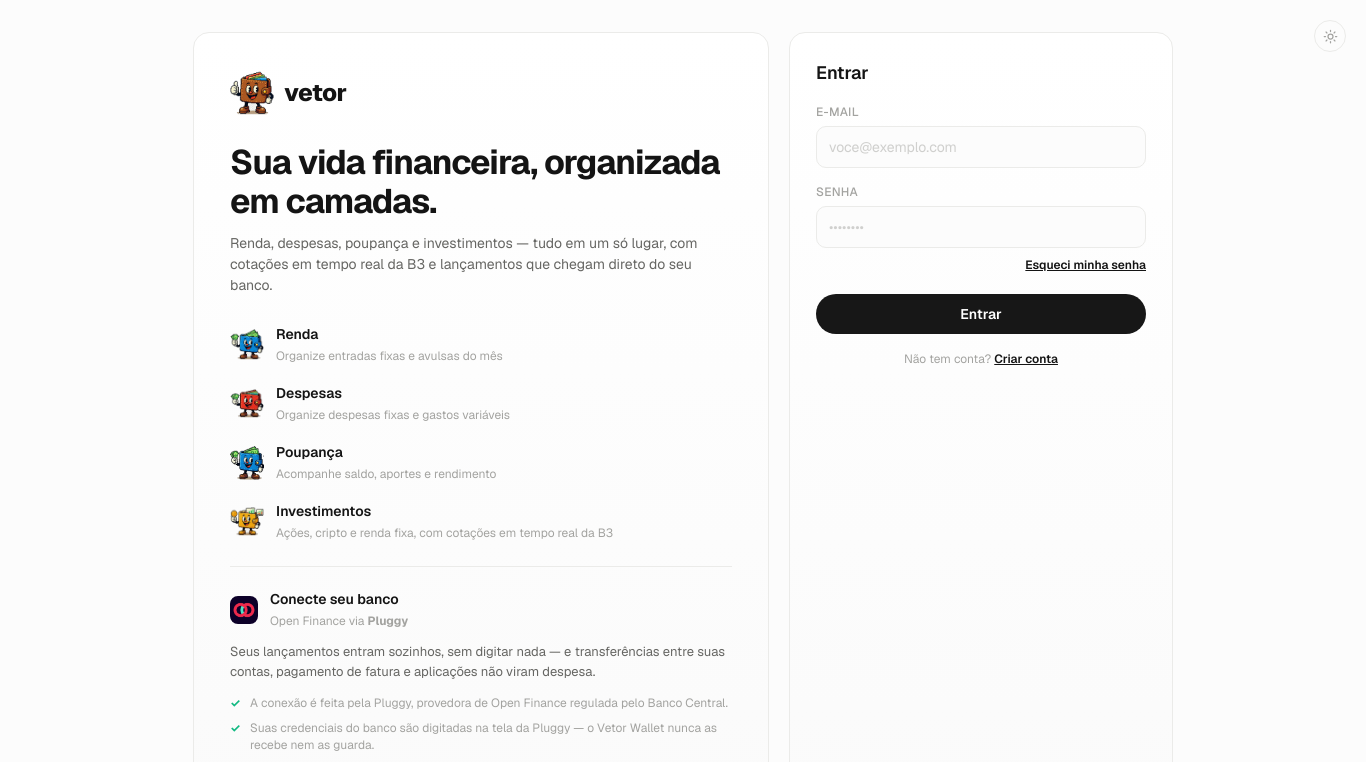
AuthPage — política de senha (T-106b) › senha fora da política não chega a sair do navegador
This screenshot has width=1366, height=762.
Click the button "Criar conta".
click(1026, 359)  # box [994,350,1058,368]
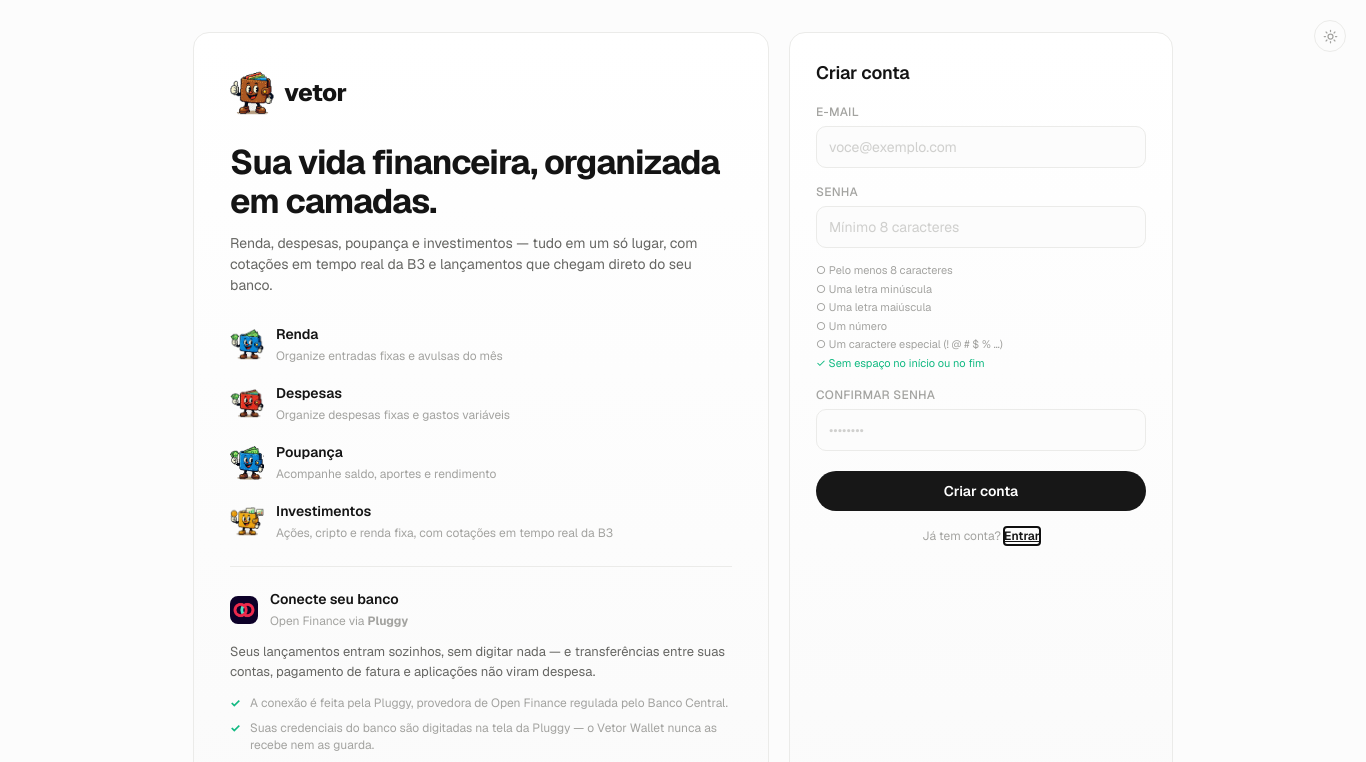
Type "alice@example.com" into the field labelled "E-mail".
click(981, 147); type("alice@example.com")  # box [816,126,1146,168]
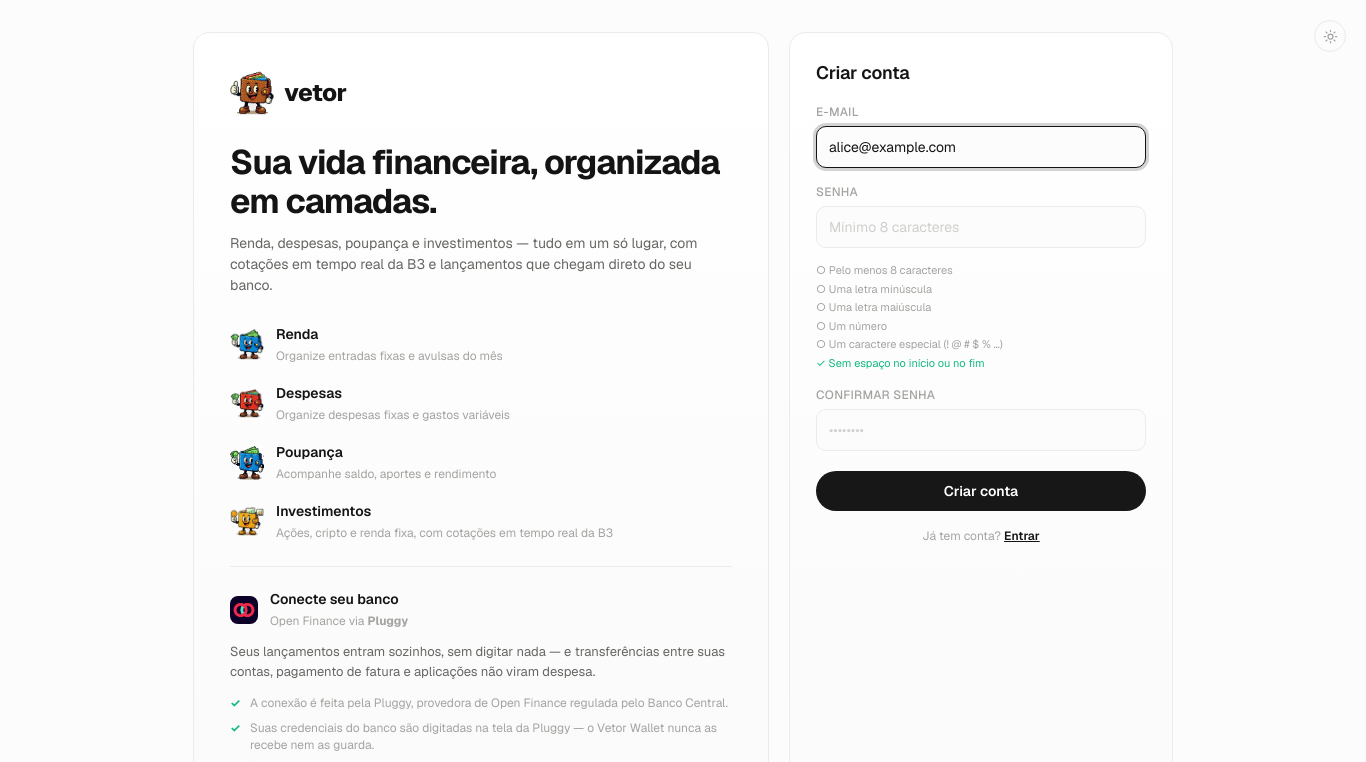
Type "123123123" into the password field labelled "Senha".
click(981, 227); type("123123123")  # box [816,206,1146,248]
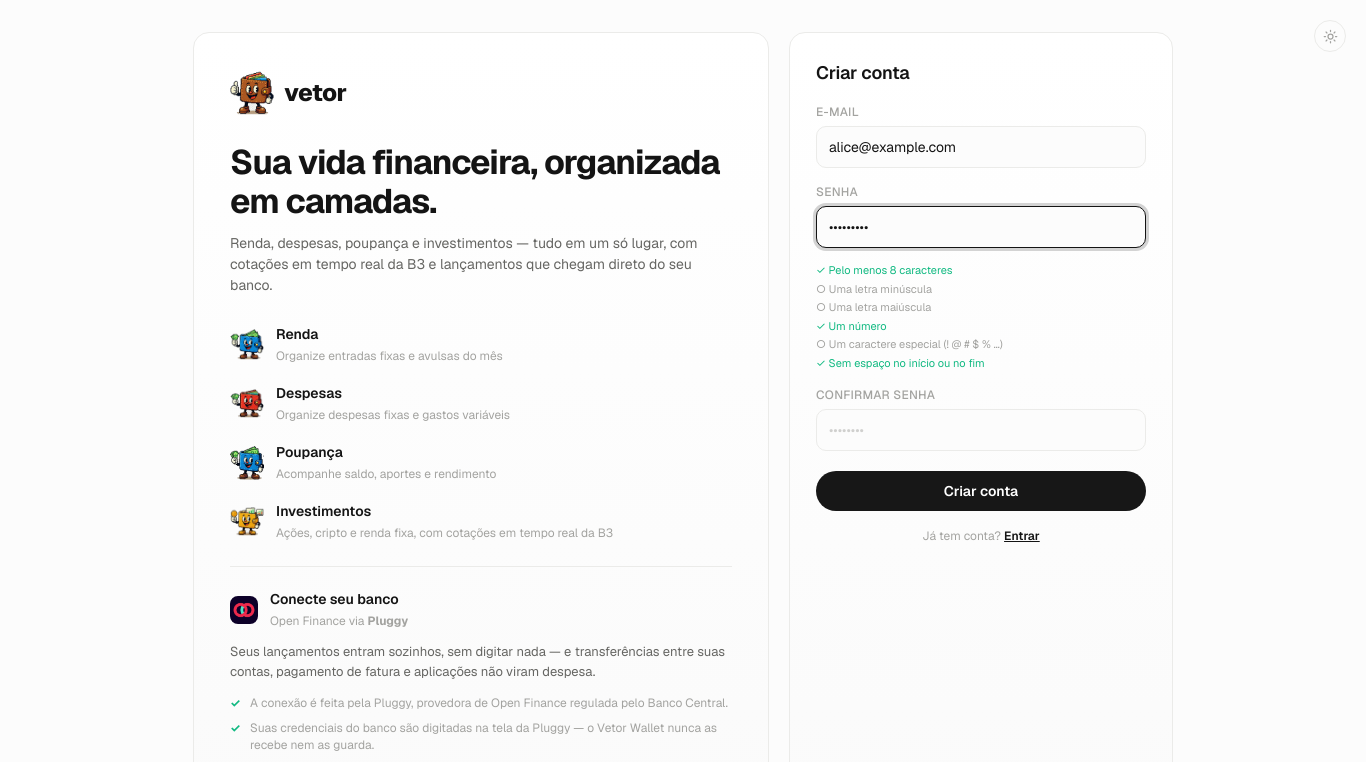
Type "123123123" into the password field labelled "Confirmar senha".
click(981, 430); type("123123123")  # box [816,409,1146,451]
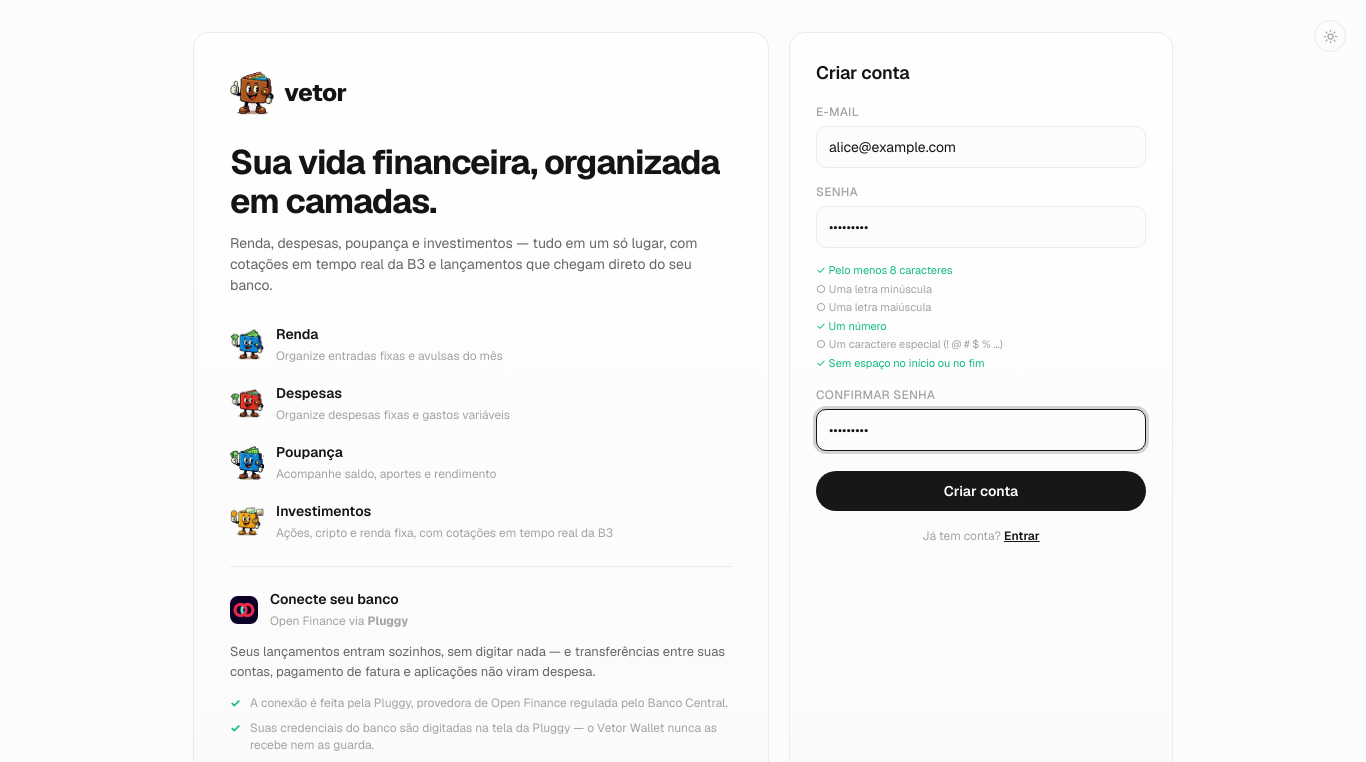
Click the button "Criar conta".
click(981, 491)  # box [816,471,1146,511]
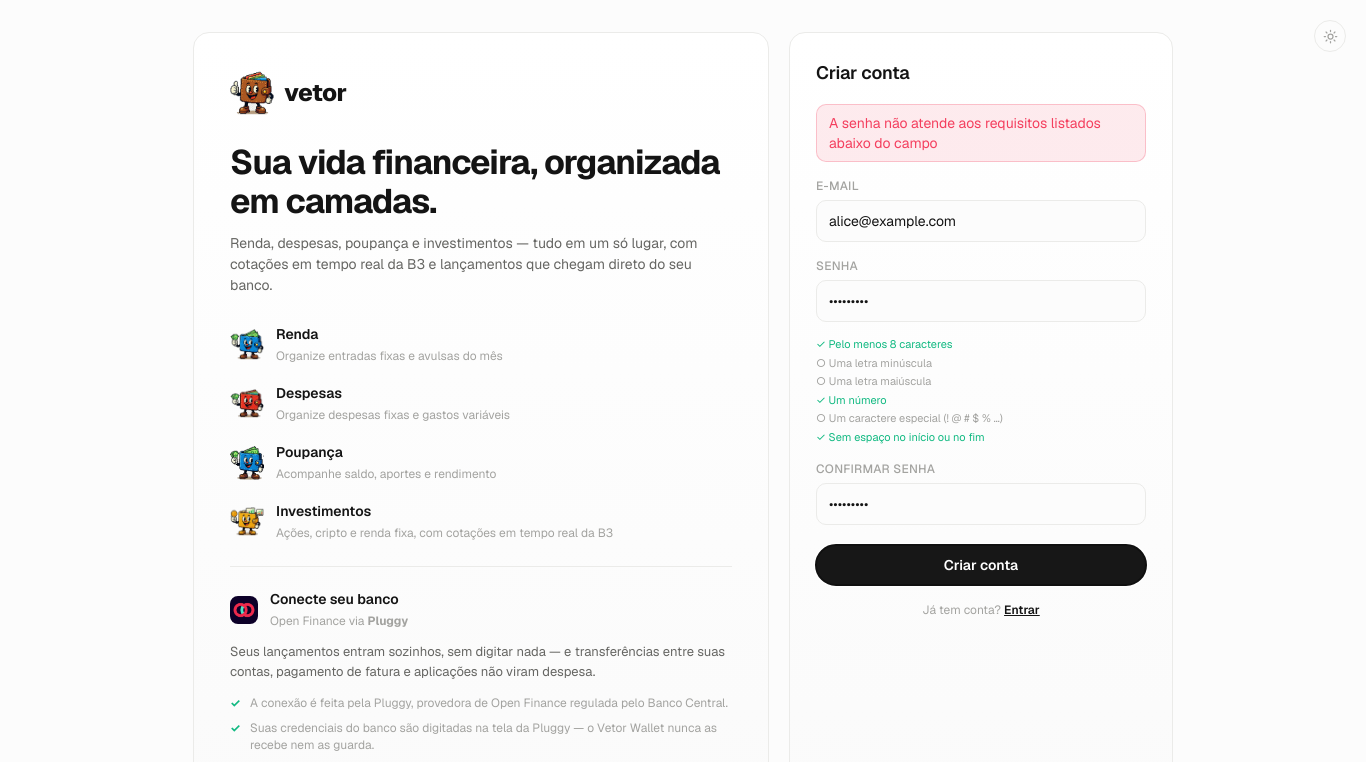
Check: the text "A senha não atende aos requisitos listados abaixo do campo" is shown, box [816,104,1146,162]
